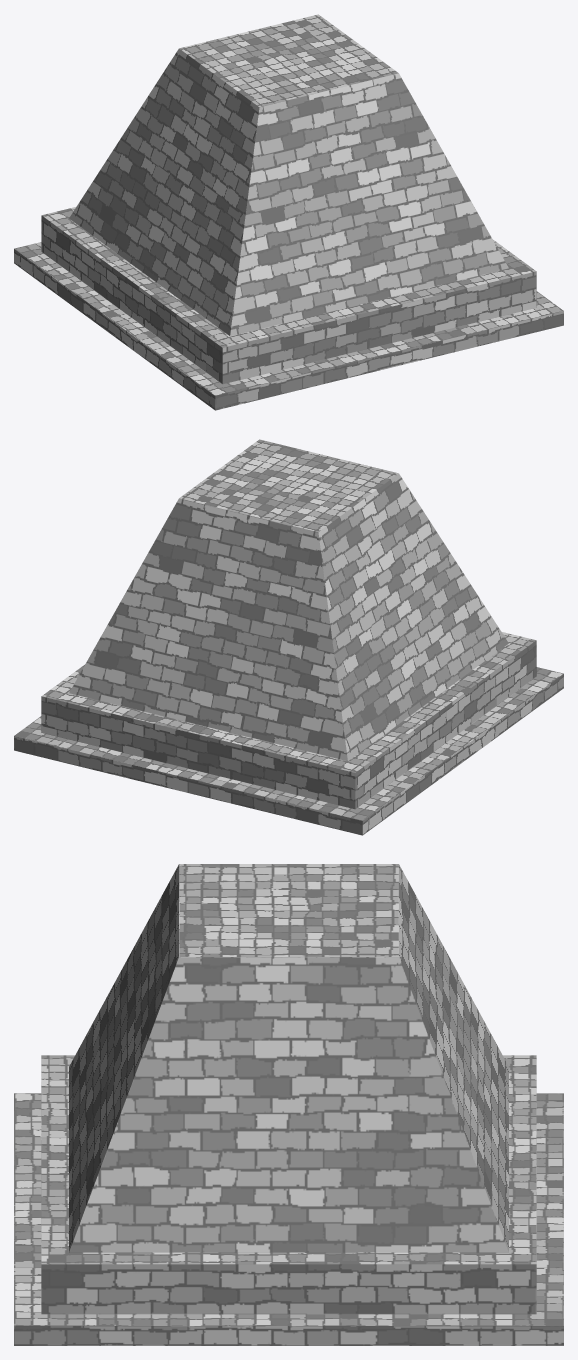
Rendered from BigBlock.glb.
3 renders of one model, top to bottom at view 1: azimuth 30°, elevation 25°; view 2: azimuth 150°, elevation 25°; view 3: azimuth 270°, elevation 25°, orthographic. The views are drawn at different scales.
Visible parts, largest first — view 1: BigBlock; view 2: BigBlock; view 3: BigBlock.
Part boxes in pixels (<box>): BigBlock: <box>14,14,563,410</box>; BigBlock: <box>14,439,563,835</box>; BigBlock: <box>14,864,563,1345</box>.
Size of the model in its own units: 10 by 6.4 by 10.
1 material, 1 textured.
